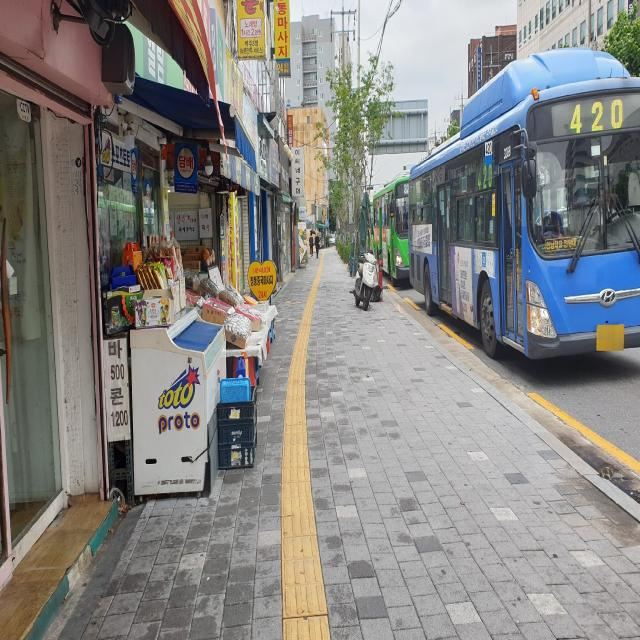motorbike: (353, 252, 379, 310)
